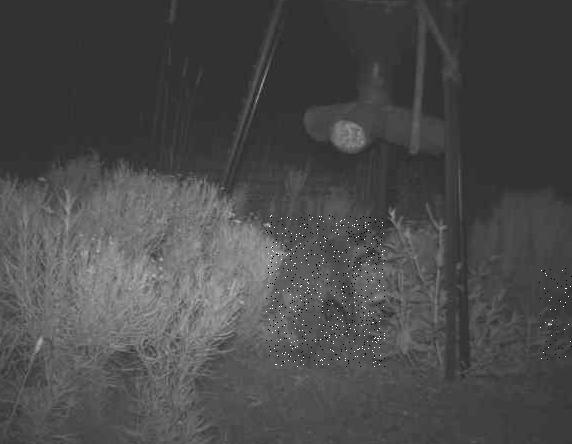Raccoon: (266, 215, 385, 367), (539, 268, 572, 361)
